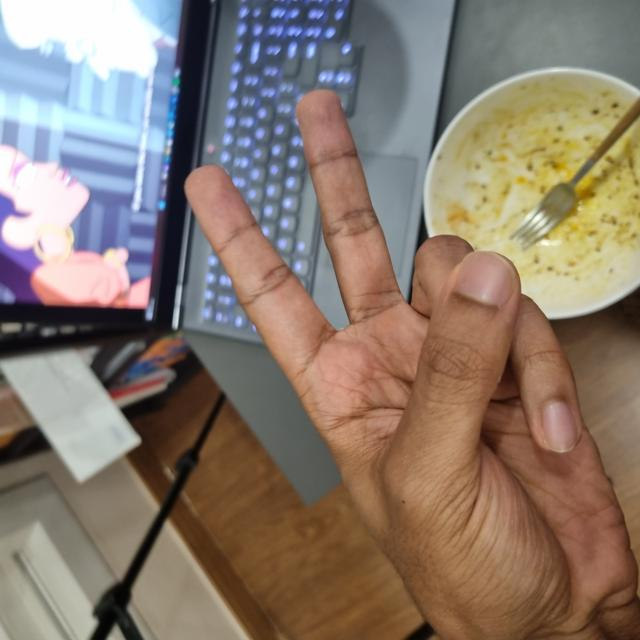Scissors: (2, 189, 551, 638)
